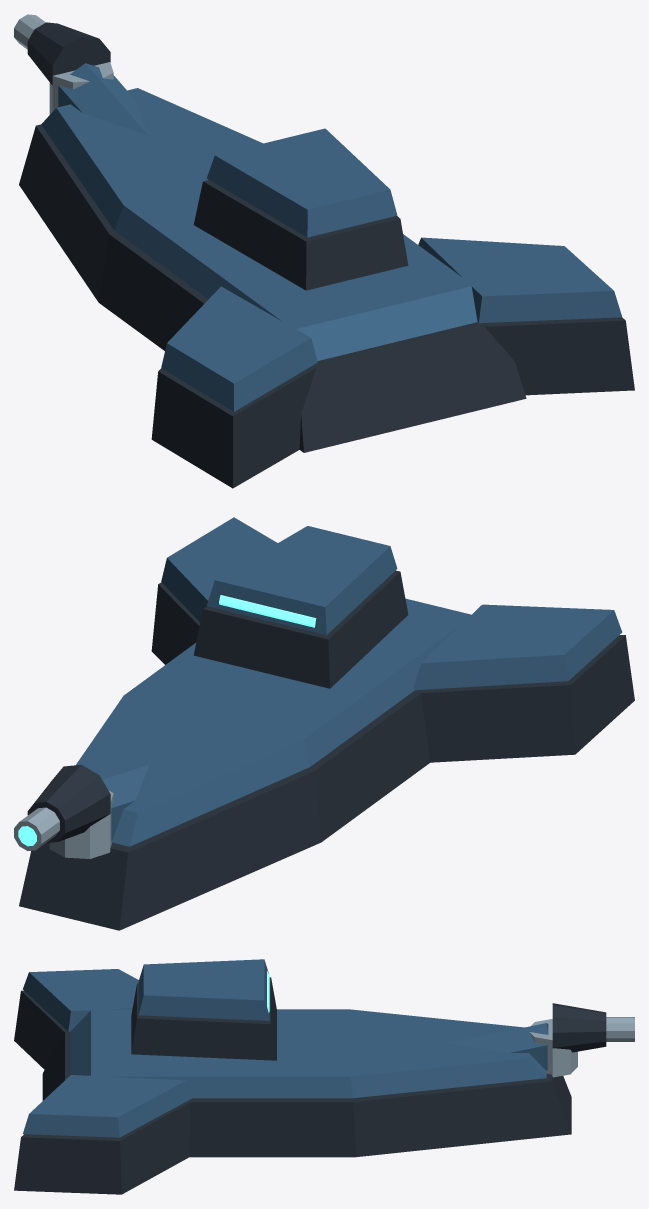
Rendered from c4_ufo.glb.
3 views of the same model, one above another, from view 1: azimuth 30°, elevation 25°; view 2: azimuth 150°, elevation 25°; view 3: azimuth 270°, elevation 25° (orthographic). The views are drawn at different scales.
Parts seen in each view (by area): view 1: ufo / Armor, ufo / Chassis, ufo / Titanium; view 2: ufo / Armor, ufo / Chassis, ufo / Titanium, ufo / Energy; view 3: ufo / Armor, ufo / Chassis, ufo / Titanium.
Part boxes in pixels (box(x1,y1,x2,y2)): ufo / Armor: box(41, 63, 621, 411); ufo / Chassis: box(19, 22, 634, 488); ufo / Titanium: box(14, 14, 113, 114); ufo / Armor: box(76, 517, 622, 846); ufo / Chassis: box(19, 570, 634, 930); ufo / Titanium: box(14, 790, 113, 858); ufo / Energy: box(18, 595, 316, 846); ufo / Armor: box(23, 959, 548, 1137); ufo / Chassis: box(14, 977, 606, 1194); ufo / Titanium: box(530, 1017, 634, 1077).
Size of the model in its own units: 1.18 by 0.473 by 1.96.
